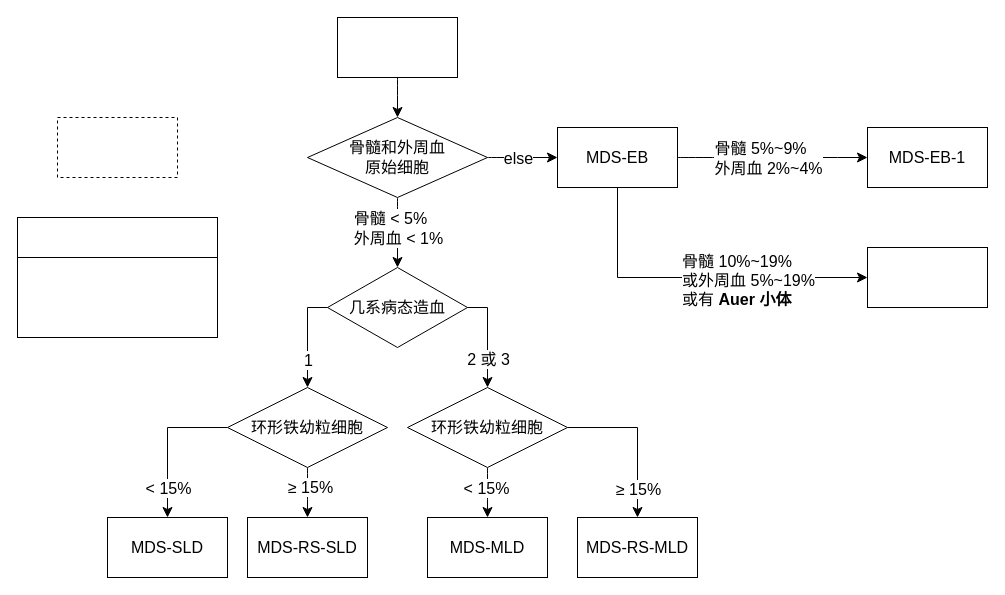
Image size: 1005x595. Some labels were removed from this diagram. The shapes that lost their labels are listed below. From the top down, each one's centre as x and y in pixels, then its label:
At [397,47]: "MDS".
At [117,147]: "MDS-U".
At [117,237]: "MDS-RS".
At [117,297]: "MDS 伴孤立 del(5q) 仅有 5q - ，可伴有一个其他异常（-7/7q - 除外）".
At [927,277]: "MDS-EB-2".
